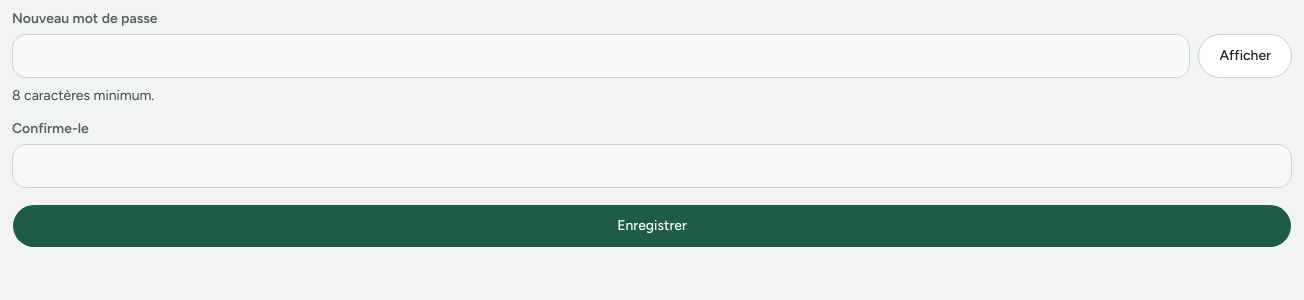
NewPasswordForm › shows the server error, focuses it and does not navigate
This screenshot has width=1304, height=300.
Type "long-enough-password" into the password field labelled "Nouveau mot de passe" at point(601, 56), box [12,34,1190,78]
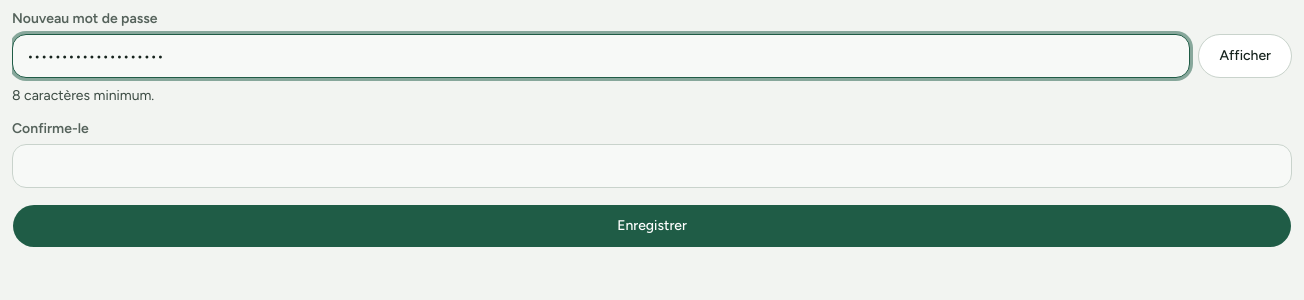
Type "long-enough-password" into the password field labelled "Confirme-le" at point(652, 166), box [12,144,1292,188]
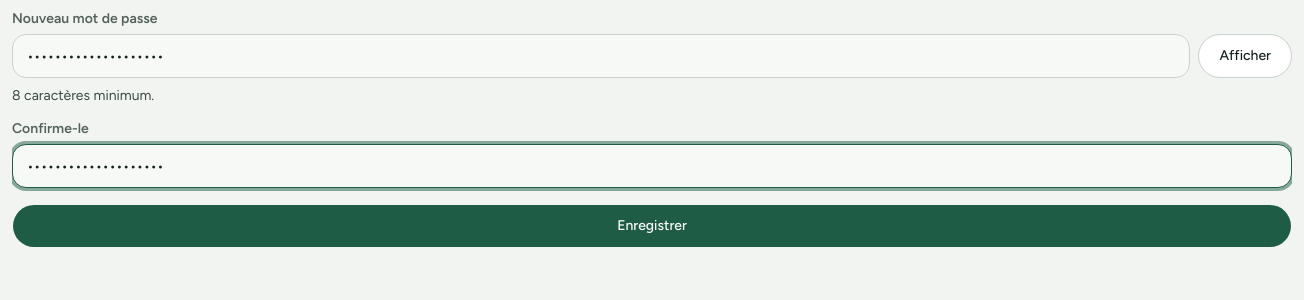
Click the button "Enregistrer" at point(652, 226), box [12,204,1292,248]
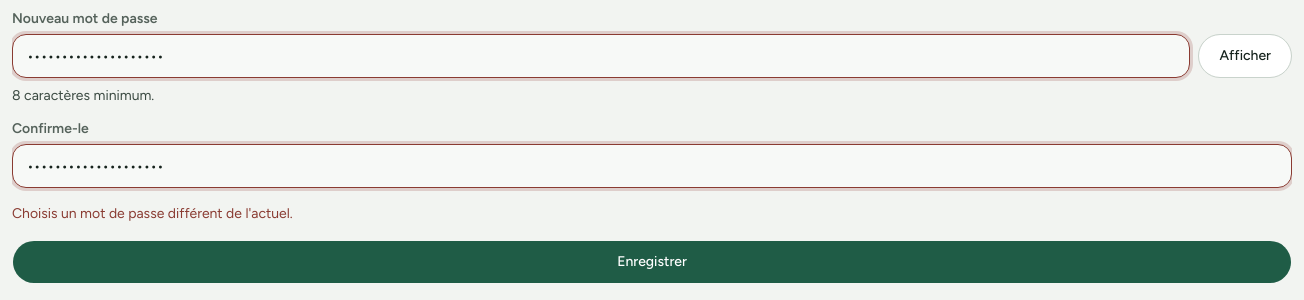
expect the message reads "Choisis un mot de passe différent de l'actuel.": met, box [12,205,293,222]
